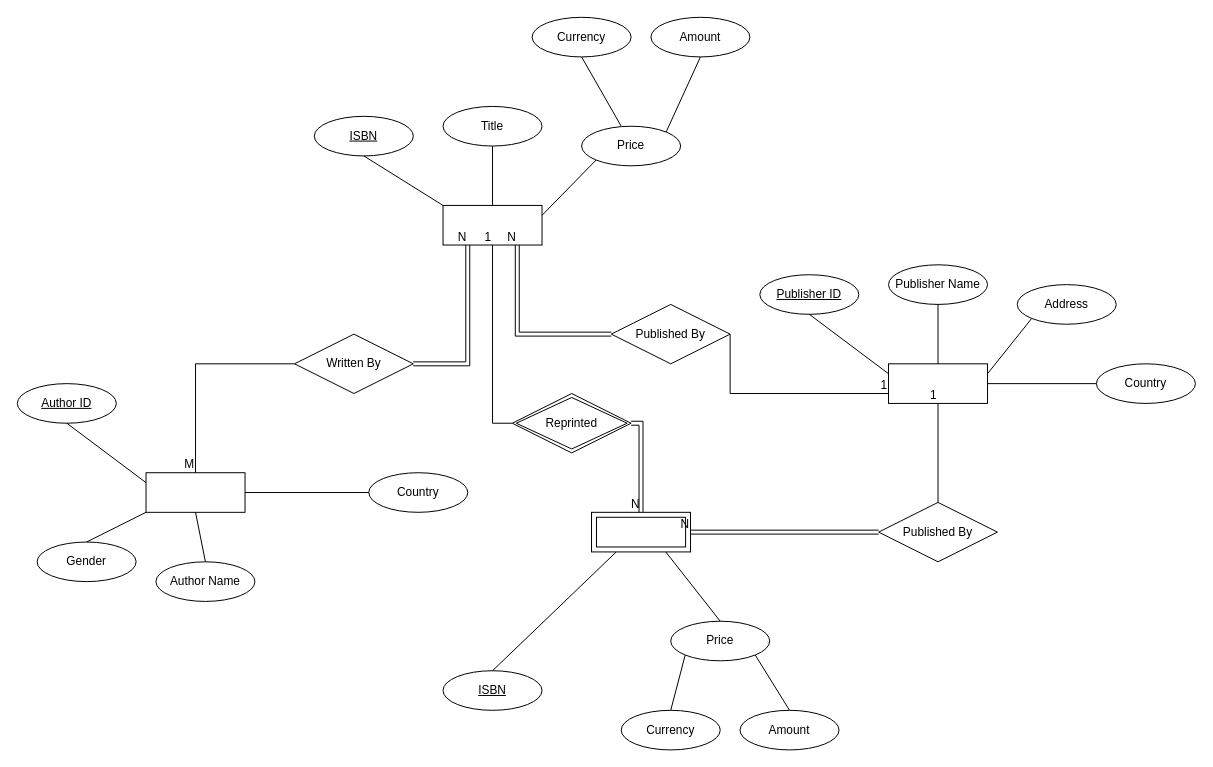
The diagram is 1213 pixels wide and 767 high, and some of its shapes have lost their labels. Each missing label, with the centre of its shape:
"Authors" goes at point 195,492.
"Books" goes at point 492,224.
"Publishers" goes at point 938,383.
"Reprinted Books" goes at point 641,531.
